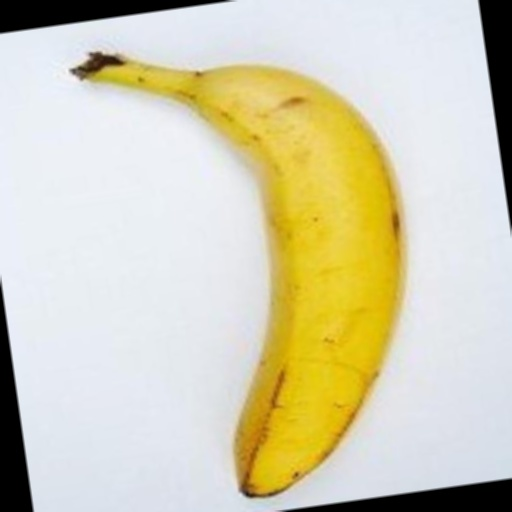fruit: (19, 38, 123, 100)
